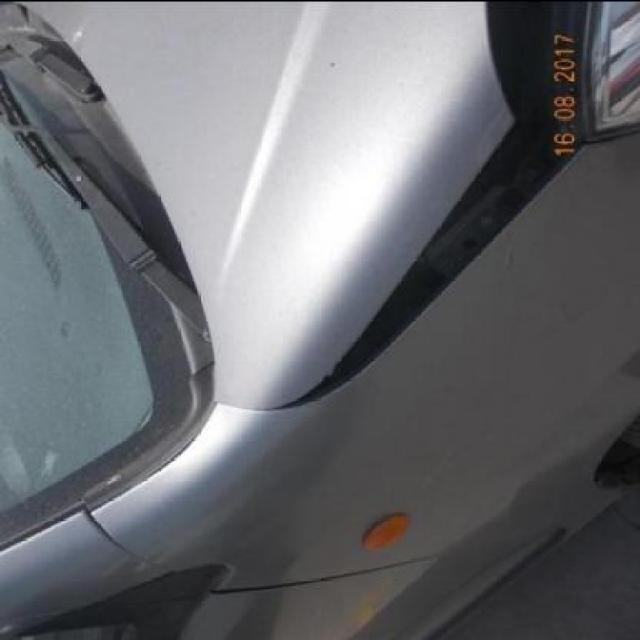damage: (272, 0, 602, 410)
